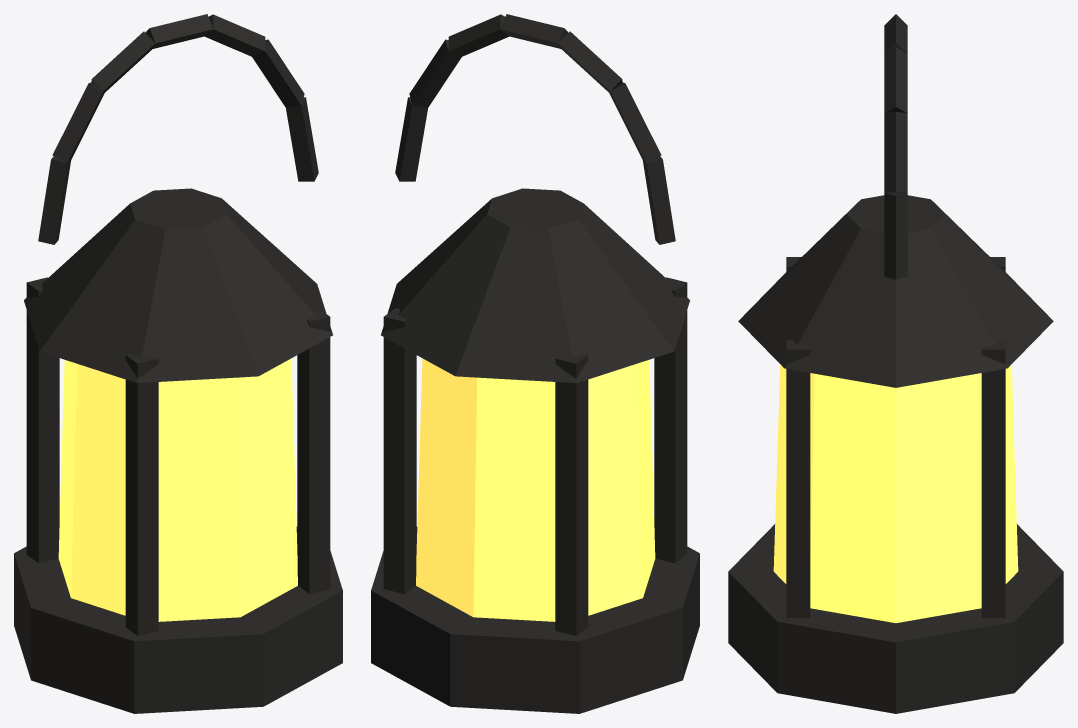
File: lantern.glb
3 renders of one model, left to right at view 1: azimuth 30°, elevation 25°; view 2: azimuth 150°, elevation 25°; view 3: azimuth 270°, elevation 25°, orthographic.
Parts seen in each view (by area): view 1: lantern; view 2: lantern; view 3: lantern.
Part boxes in pixels (left/top/right/bottom): lantern: left=14, top=14, right=342, bottom=713; lantern: left=371, top=14, right=699, bottom=713; lantern: left=728, top=14, right=1063, bottom=713.
Bounding box in the file's own units: 0.17 × 0.3435 × 0.17.
